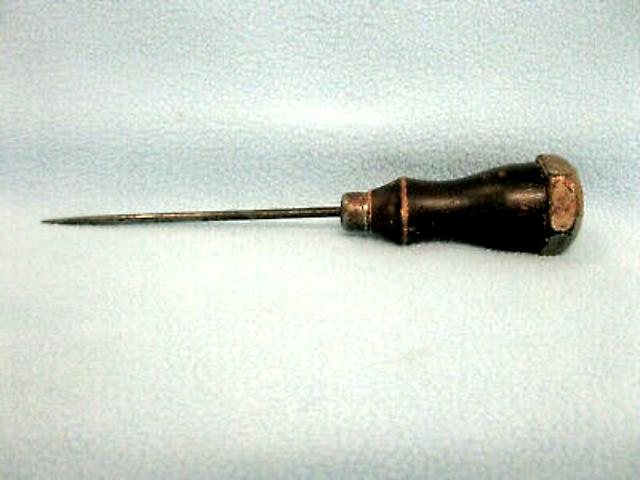ice pick: (41, 153, 583, 255)
